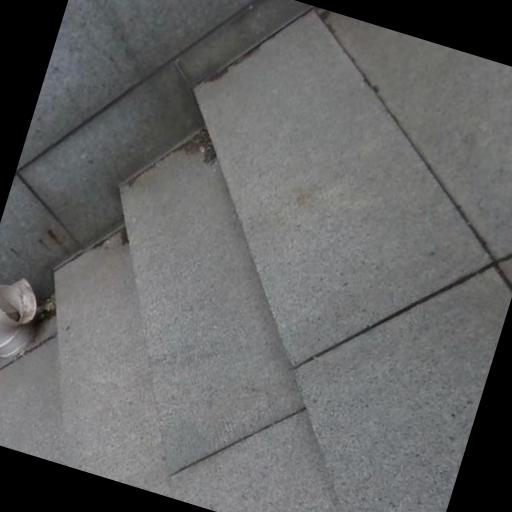stairs: (0, 9, 511, 511), (122, 145, 303, 471), (55, 234, 170, 496)
